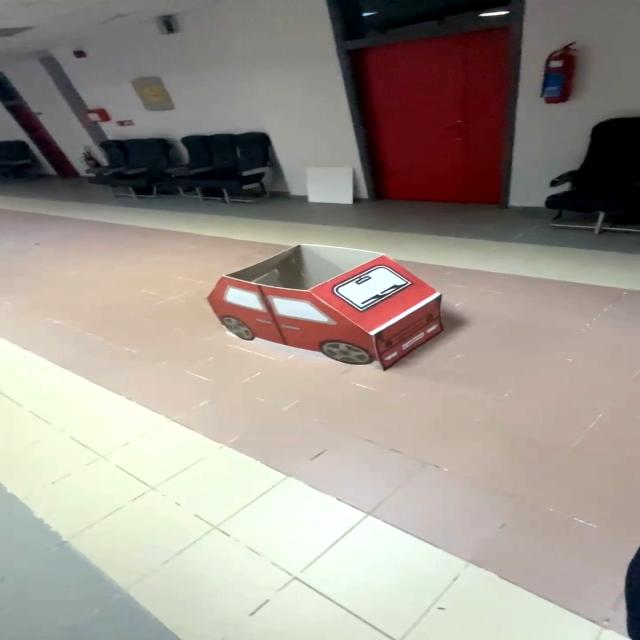red_car: (169, 234, 476, 387)
